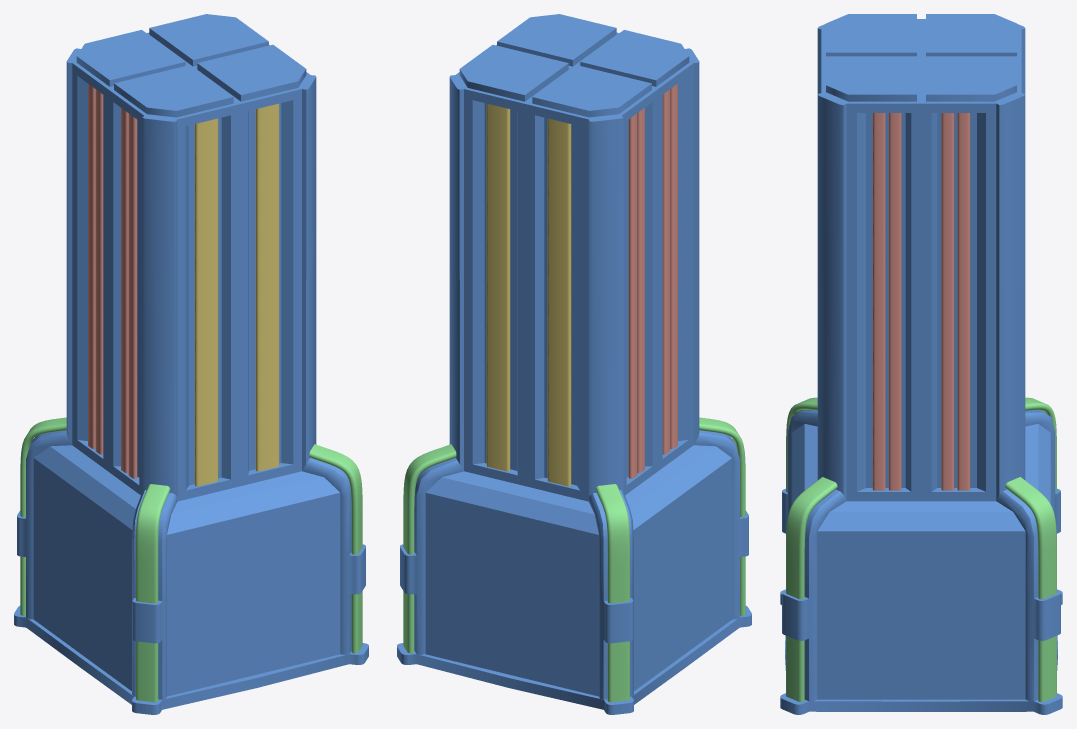
The model's file is TowerBase.fbx.
The picture shows the model from 3 angles, left to right: view 1: azimuth 30°, elevation 25°; view 2: azimuth 150°, elevation 25°; view 3: azimuth 270°, elevation 25°; orthographic projection. The views are drawn at different scales.
Visible parts, largest first — view 1: Tower; view 2: Tower; view 3: Tower.
Part boxes in pixels (<box>): Tower: <box>14,14,368,714</box>; Tower: <box>397,14,751,714</box>; Tower: <box>780,14,1062,714</box>.
Bounding box in the file's own units: 186 × 436 × 186.
